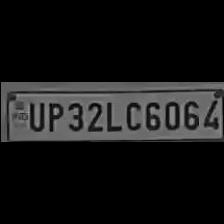0: (160, 98, 180, 130)
2: (84, 98, 103, 132)
3: (64, 98, 82, 132)
4: (201, 96, 219, 130)
6: (180, 96, 198, 130), (142, 99, 160, 131)
C: (122, 97, 140, 130)
L: (102, 98, 120, 132)
P: (43, 99, 62, 133)
U: (24, 98, 42, 132)
